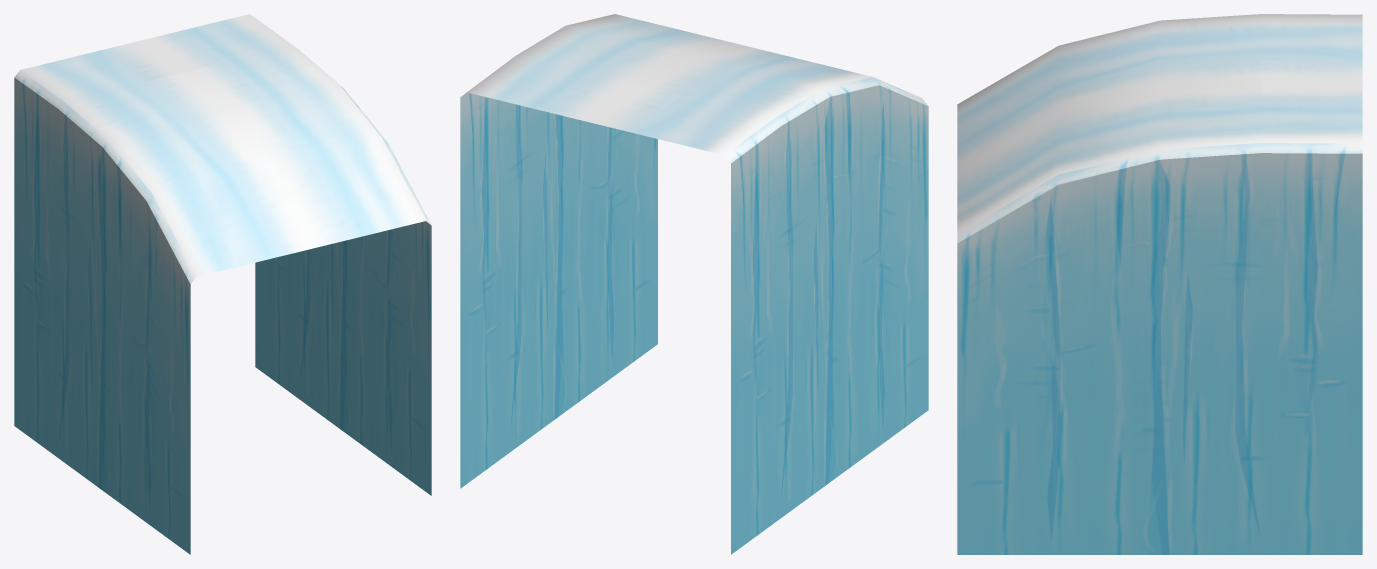
Rendered from High_Crag_Middle.FBX.
3 views of the same model, side by side, from view 1: azimuth 30°, elevation 25°; view 2: azimuth 150°, elevation 25°; view 3: azimuth 270°, elevation 25° (orthographic). The views are drawn at different scales.
Parts seen in each view (by area): view 1: Object303; view 2: Object303; view 3: Object303.
Boxes of the visible parts, bbox=[...] form: Object303: bbox=[14, 14, 431, 554]; Object303: bbox=[460, 14, 928, 554]; Object303: bbox=[957, 14, 1362, 554].
Size of the model in its own units: 632 by 890 by 800.
